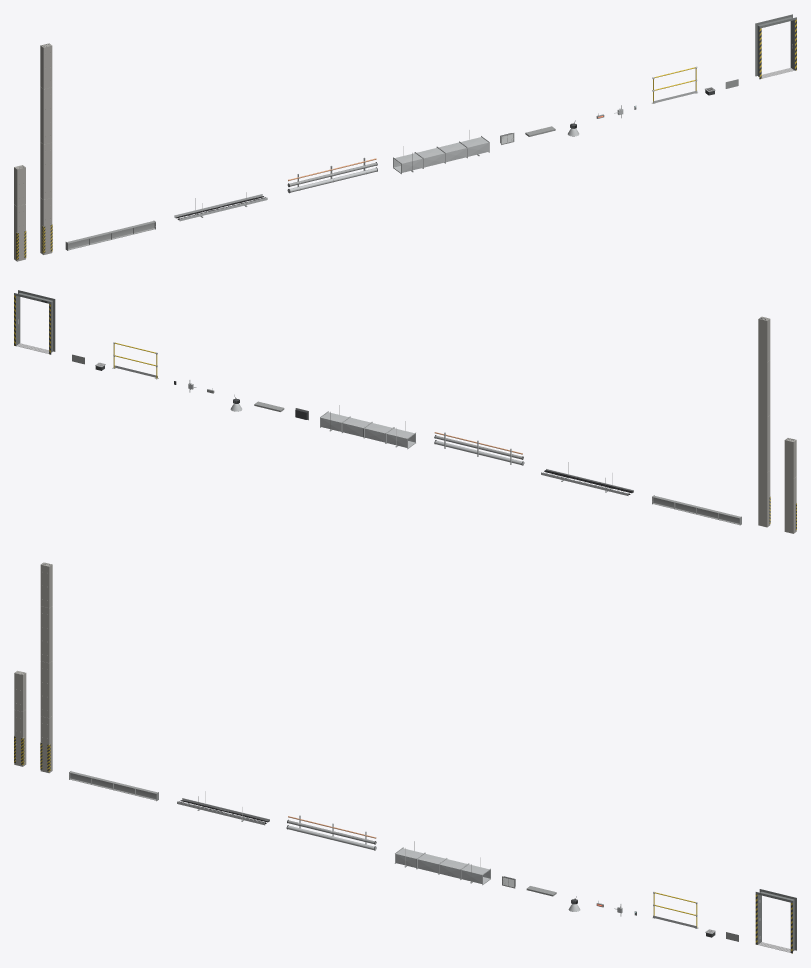
File: env_kit.glb
The picture shows the model from 3 angles, top to bottom: view 1: azimuth 30°, elevation 25°; view 2: azimuth 150°, elevation 25°; view 3: azimuth 330°, elevation 25°; orthographic projection.
Parts seen in each view (by area): view 1: wall_rib_9_body, duct_4_body, wall_rib_4_body, door_frame_body, pipe_bundle_4_body, ibeam_4_body, cable_tray_4_body; view 2: wall_rib_9_body, duct_4_body, wall_rib_4_body, door_frame_body, pipe_bundle_4_body, ibeam_4_body, cable_tray_4_body; view 3: wall_rib_9_body, duct_4_body, wall_rib_4_body, door_frame_body, pipe_bundle_4_body, ibeam_4_body, cable_tray_4_body.
Part boxes in pixels (bbox=[...]): wall_rib_9_body: bbox=[40, 43, 52, 254]; duct_4_body: bbox=[393, 130, 489, 174]; wall_rib_4_body: bbox=[14, 165, 26, 261]; door_frame_body: bbox=[755, 14, 796, 79]; pipe_bundle_4_body: bbox=[287, 157, 377, 193]; ibeam_4_body: bbox=[65, 220, 155, 250]; cable_tray_4_body: bbox=[174, 192, 267, 221]; wall_rib_9_body: bbox=[758, 316, 770, 527]; duct_4_body: bbox=[320, 405, 415, 449]; wall_rib_4_body: bbox=[784, 438, 796, 533]; door_frame_body: bbox=[14, 290, 55, 354]; pipe_bundle_4_body: bbox=[434, 432, 524, 465]; ibeam_4_body: bbox=[652, 495, 741, 525]; cable_tray_4_body: bbox=[541, 462, 633, 495]; wall_rib_9_body: bbox=[40, 562, 52, 773]; duct_4_body: bbox=[394, 841, 490, 885]; wall_rib_4_body: bbox=[14, 670, 26, 766]; door_frame_body: bbox=[755, 889, 796, 953]; pipe_bundle_4_body: bbox=[286, 815, 376, 850]; ibeam_4_body: bbox=[69, 771, 158, 801]; cable_tray_4_body: bbox=[177, 791, 269, 825].
Size of the model in its own units: 35.46 by 9.5 by 0.78.
